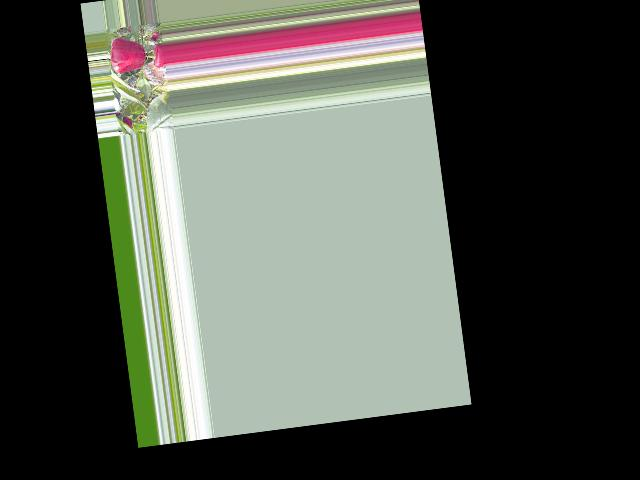bell_pepper: (149, 41, 167, 71)
